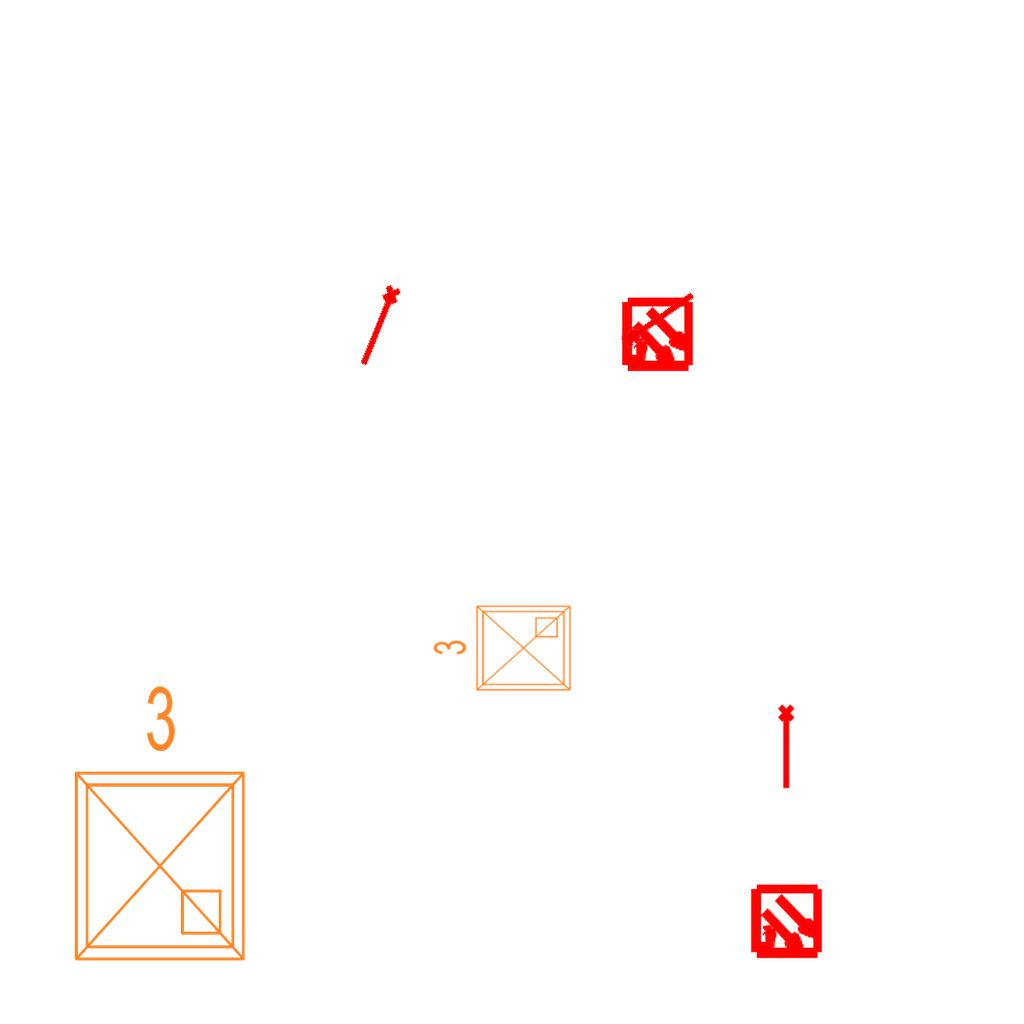ASR_Ansaugoeffnung: (615, 282, 701, 353), (352, 281, 408, 372), (776, 703, 799, 791)
Einbaudownlights_LED_Konferenzraeume: (52, 675, 260, 975), (428, 598, 578, 702)
OT_Multisensormelder_(Kombination_RMO_WMD): (601, 280, 714, 393), (730, 867, 843, 980)
